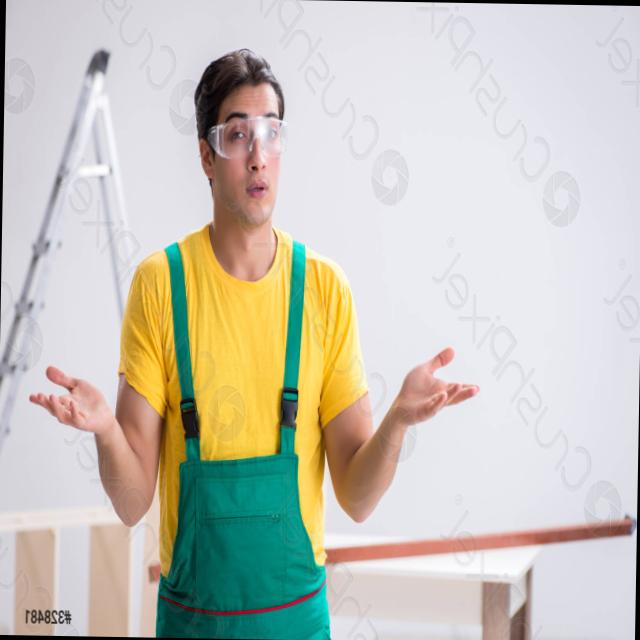goggles: (205, 116, 290, 162)
no-helmet: (190, 18, 289, 84)
no-vest: (145, 230, 336, 594)
